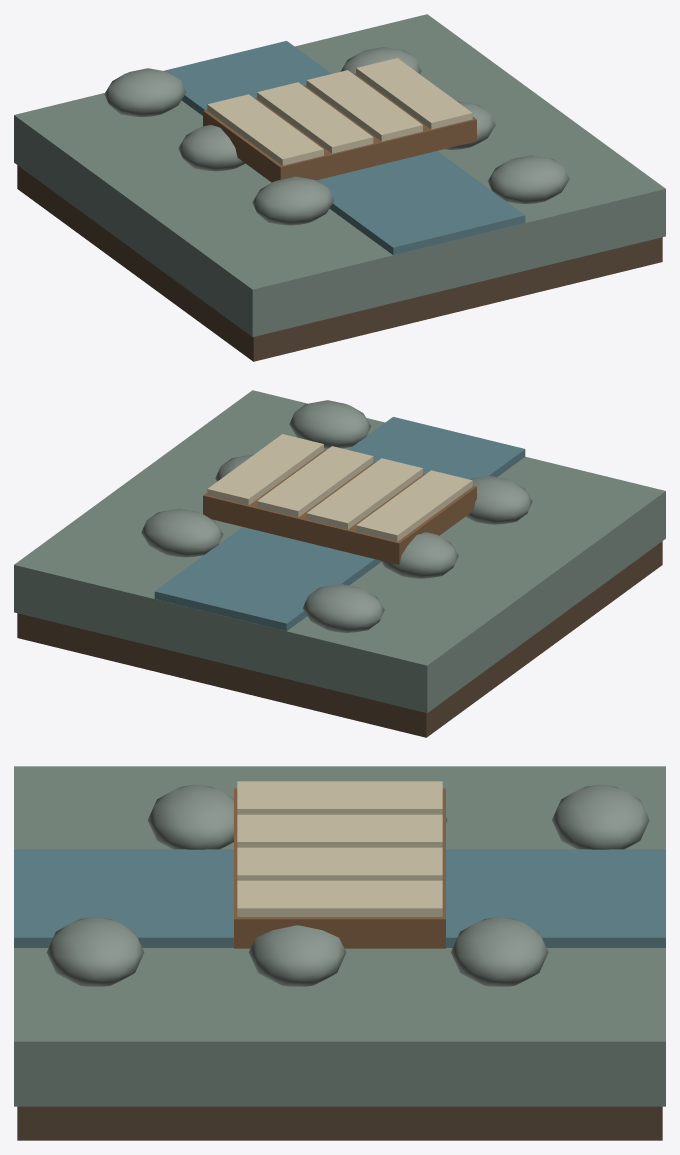
The model's file is terrain-brook.glb.
The picture shows the model from 3 angles, top to bottom: view 1: azimuth 30°, elevation 25°; view 2: azimuth 150°, elevation 25°; view 3: azimuth 270°, elevation 25°; orthographic projection. The views are drawn at different scales.
Visible parts, largest first — view 1: terrain-brook-visual; view 2: terrain-brook-visual; view 3: terrain-brook-visual.
Boxes of the visible parts, bbox=[...] form: terrain-brook-visual: bbox=[14, 14, 665, 361]; terrain-brook-visual: bbox=[14, 390, 665, 737]; terrain-brook-visual: bbox=[14, 766, 665, 1140].
Size of the model in its own units: 2 by 0.54 by 2.
